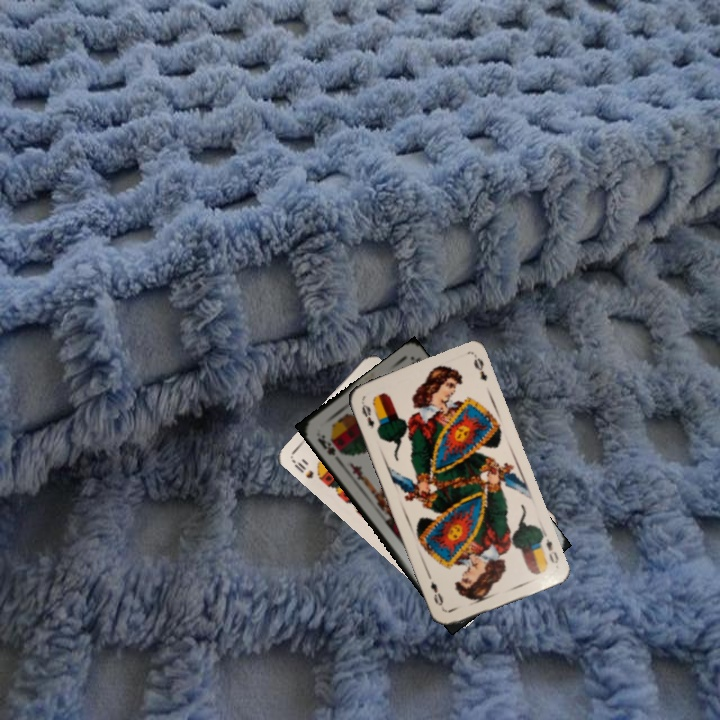EO: (535, 530, 562, 566), (357, 398, 382, 435)
S10: (289, 456, 325, 483)
SK: (313, 431, 345, 458)
